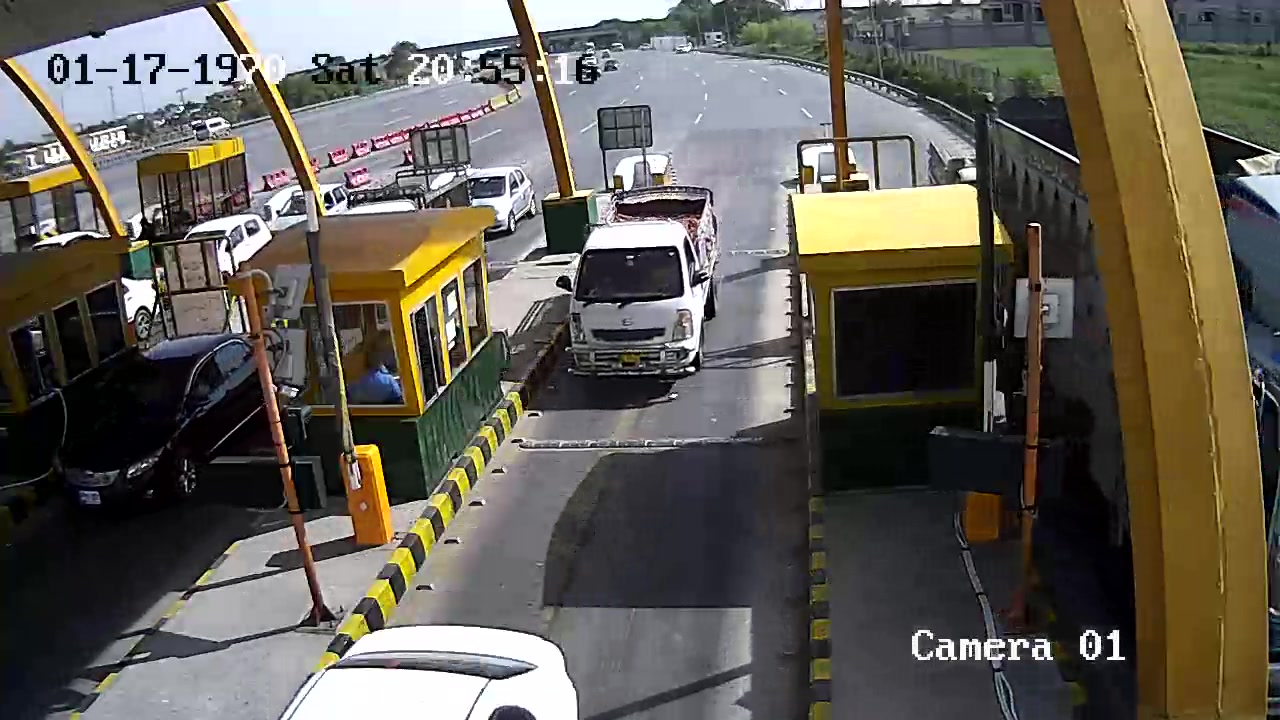F2: (560, 181, 727, 388)
